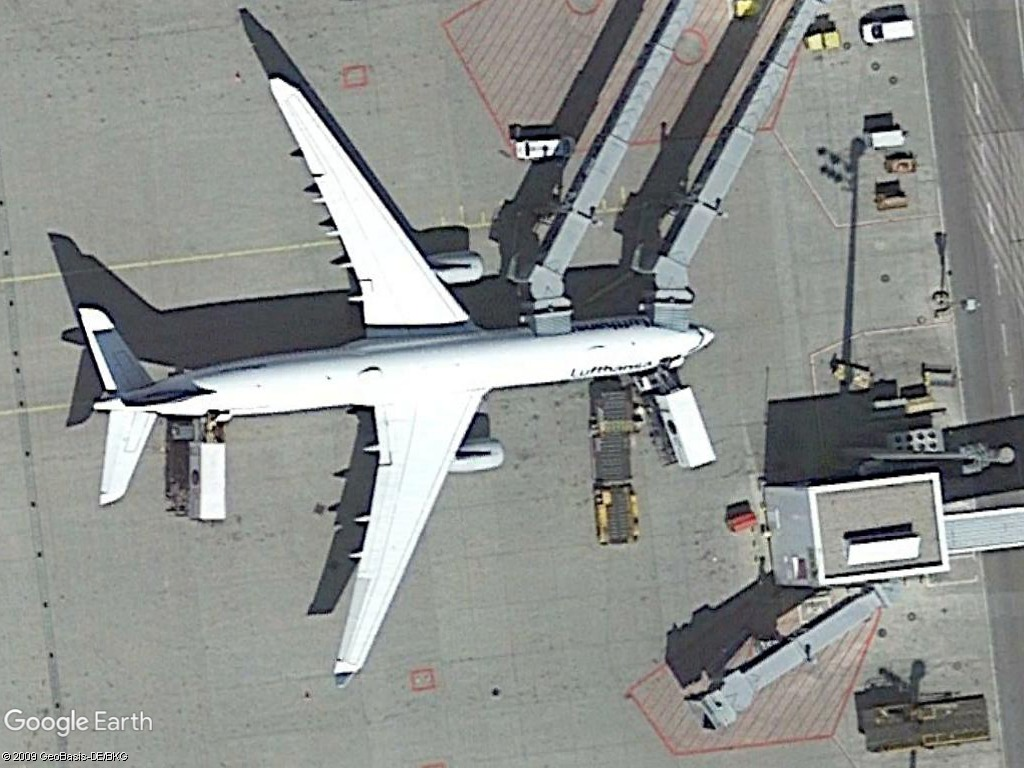airliner: (57, 70, 723, 693)
van: (856, 16, 915, 48)
